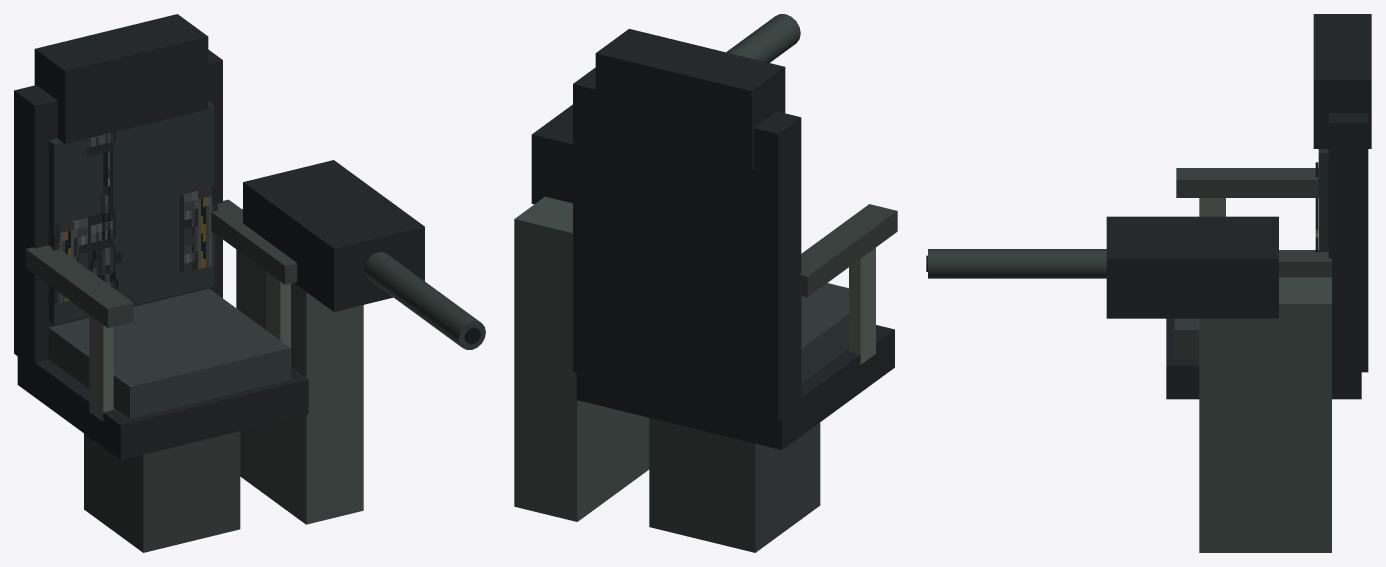
The model's file is CMU3DInteriorCMUSeatBlackfootDoorGunner.glb.
3 views of the same model, side by side, from view 1: azimuth 30°, elevation 25°; view 2: azimuth 150°, elevation 25°; view 3: azimuth 270°, elevation 25° (orthographic). The views are drawn at different scales.
Visible parts, largest first — view 1: gunner pedestal, back cushion, cushion, weapon receiver, headrest, bolted pedestal, seat pan, reinforced back, source seat upholstery, arm rest (×2), barrel, arm support (×2); view 2: reinforced back, gunner pedestal, headrest, bolted pedestal, seat pan, arm rest, cushion, weapon receiver, arm support, barrel; view 3: gunner pedestal, weapon receiver, reinforced back, headrest, arm rest (×2), barrel, seat pan, back cushion, cushion.
Part boxes in pixels (x1=…): gunner pedestal: x1=236, y1=209, x2=363, y2=524; back cushion: x1=48, y1=101, x2=214, y2=324; cushion: x1=48, y1=288, x2=290, y2=418; weapon receiver: x1=243, y1=160, x2=424, y2=311; headrest: x1=34, y1=14, x2=208, y2=143; bolted pedestal: x1=84, y1=431, x2=240, y2=552; seat pan: x1=17, y1=350, x2=308, y2=459; reinforced back: x1=14, y1=49, x2=222, y2=362; source seat upholstery: x1=52, y1=132, x2=217, y2=304; arm rest (×2): x1=25, y1=199, x2=297, y2=327; barrel: x1=364, y1=252, x2=485, y2=349; arm support (×2): x1=89, y1=271, x2=290, y2=421; reinforced back: x1=573, y1=67, x2=801, y2=421; gunner pedestal: x1=514, y1=196, x2=649, y2=521; headrest: x1=595, y1=29, x2=785, y2=170; bolted pedestal: x1=649, y1=418, x2=820, y2=552; seat pan: x1=576, y1=325, x2=894, y2=449; arm rest: x1=799, y1=204, x2=897, y2=297; cushion: x1=801, y1=283, x2=848, y2=382; weapon receiver: x1=531, y1=104, x2=572, y2=204; arm support: x1=849, y1=247, x2=875, y2=364; barrel: x1=726, y1=14, x2=800, y2=62; gunner pedestal: x1=1199, y1=277, x2=1331, y2=552; weapon receiver: x1=1106, y1=216, x2=1278, y2=318; reinforced back: x1=1328, y1=113, x2=1368, y2=372; headrest: x1=1313, y1=14, x2=1371, y2=148; arm rest (×2): x1=1176, y1=168, x2=1331, y2=277; barrel: x1=928, y1=249, x2=1106, y2=278; seat pan: x1=1166, y1=318, x2=1361, y2=399; back cushion: x1=1318, y1=149, x2=1328, y2=251; cushion: x1=1174, y1=318, x2=1199, y2=359.
Bounding box in the file's own units: 0.925 × 1.43 × 1.34.
Materials: 10 (1 with a texture image).
